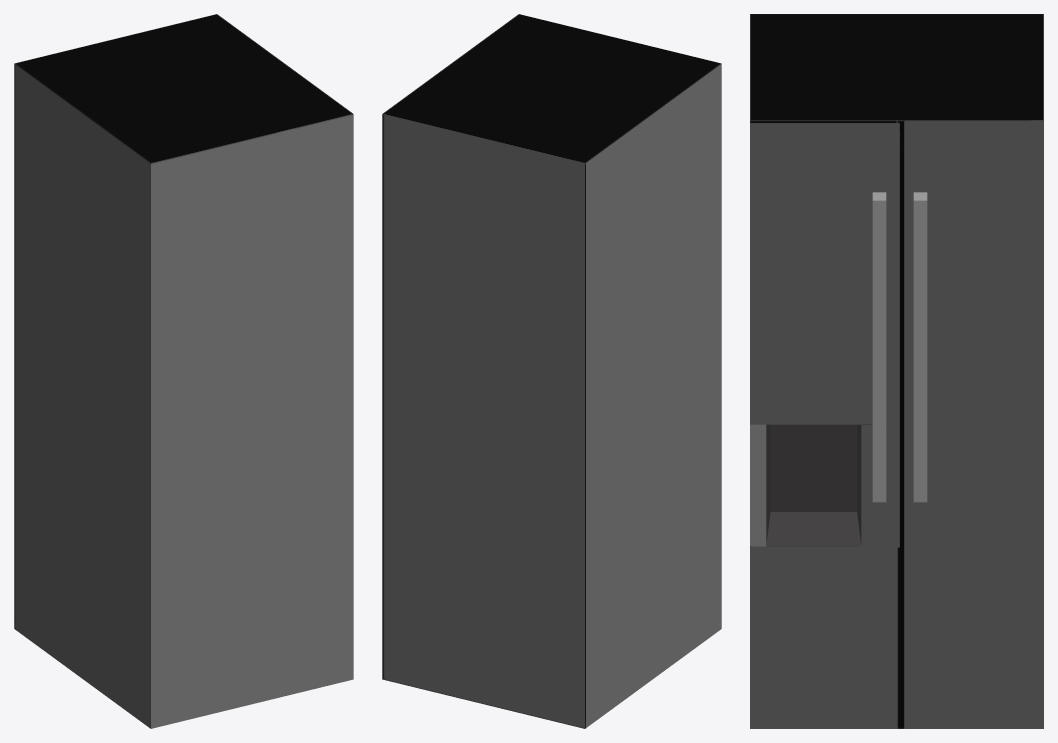
The model's file is Fridge.fbx.
The picture shows the model from 3 angles, left to right: view 1: azimuth 30°, elevation 25°; view 2: azimuth 150°, elevation 25°; view 3: azimuth 270°, elevation 25°; orthographic projection. The views are drawn at different scales.
Parts seen in each view (by area): view 1: pCube1; view 2: pCube1; view 3: pCube1, pCube2, pasted__pCube2.
Boxes of the visible parts, bbox=[...] form: pCube1: bbox=[14, 14, 353, 728]; pCube1: bbox=[382, 14, 721, 728]; pCube1: bbox=[750, 14, 1043, 728]; pCube2: bbox=[872, 192, 886, 502]; pasted__pCube2: bbox=[913, 192, 927, 502].
Bounding box in the file's own units: 6.48 × 16 × 7.
Materials: 2 (1 with a texture image).
